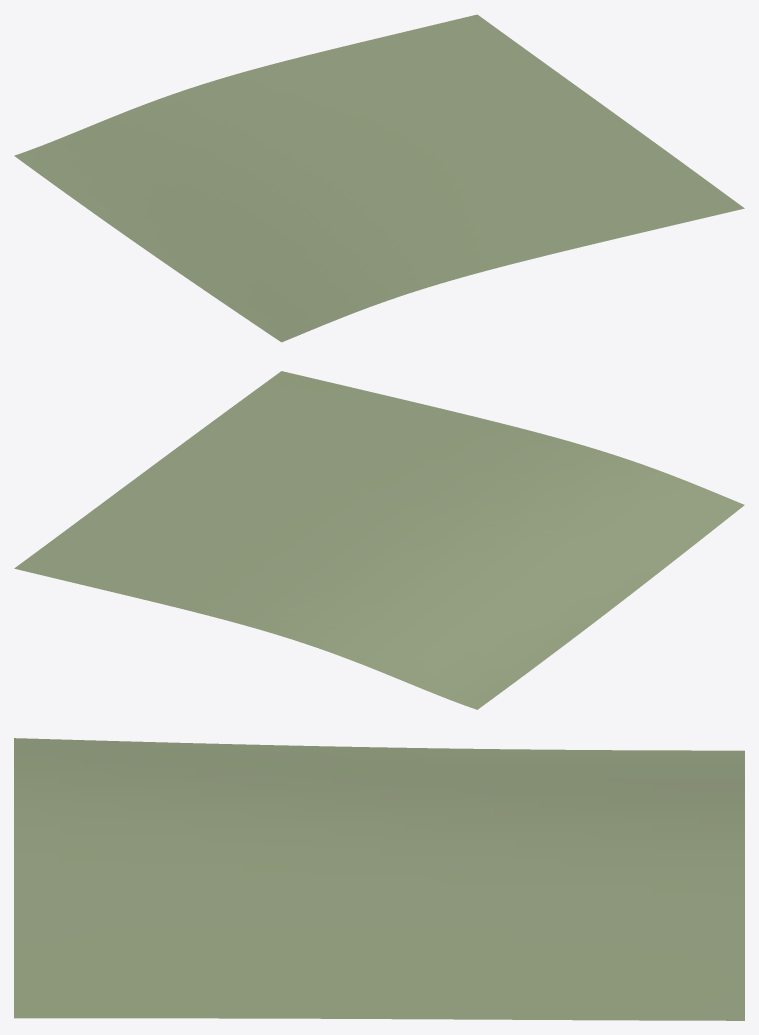
Rendered from desert-14-3.glb.
3 views of the same model, one above another, from view 1: azimuth 30°, elevation 25°; view 2: azimuth 150°, elevation 25°; view 3: azimuth 270°, elevation 25° (orthographic). The views are drawn at different scales.
Parts seen in each view (by area): view 1: desert-14-3; view 2: desert-14-3; view 3: desert-14-3.
Part boxes in pixels (bbox=[...]): desert-14-3: bbox=[14, 14, 744, 342]; desert-14-3: bbox=[14, 371, 744, 709]; desert-14-3: bbox=[14, 738, 744, 1020].
Size of the model in its own units: 512 by 33.24 by 512.
